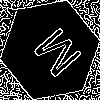M: (25, 25, 84, 86)
